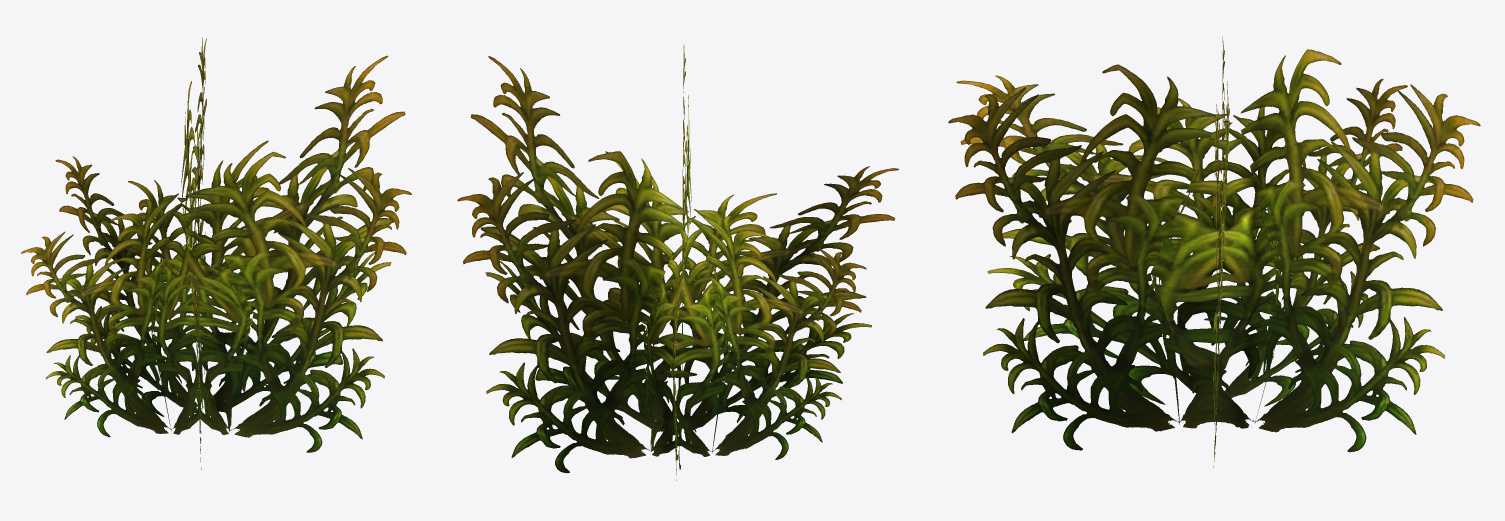
The model's file is aeriepeaksbush02.obj.
3 renders of one model, left to right at view 1: azimuth 30°, elevation 25°; view 2: azimuth 150°, elevation 25°; view 3: azimuth 270°, elevation 25°, orthographic. The views are drawn at different scales.
Parts seen in each view (by area): view 1: AERIEPEAKSBUSH020; view 2: AERIEPEAKSBUSH020; view 3: AERIEPEAKSBUSH020.
Boxes of the visible parts, <box> form: AERIEPEAKSBUSH020: <box>21,37,411,470</box>; AERIEPEAKSBUSH020: <box>457,45,898,480</box>; AERIEPEAKSBUSH020: <box>948,37,1480,467</box>.
Bounding box in the file's own units: 3.32 × 2.79 × 3.15.
Materials: 1 (1 with a texture image).
